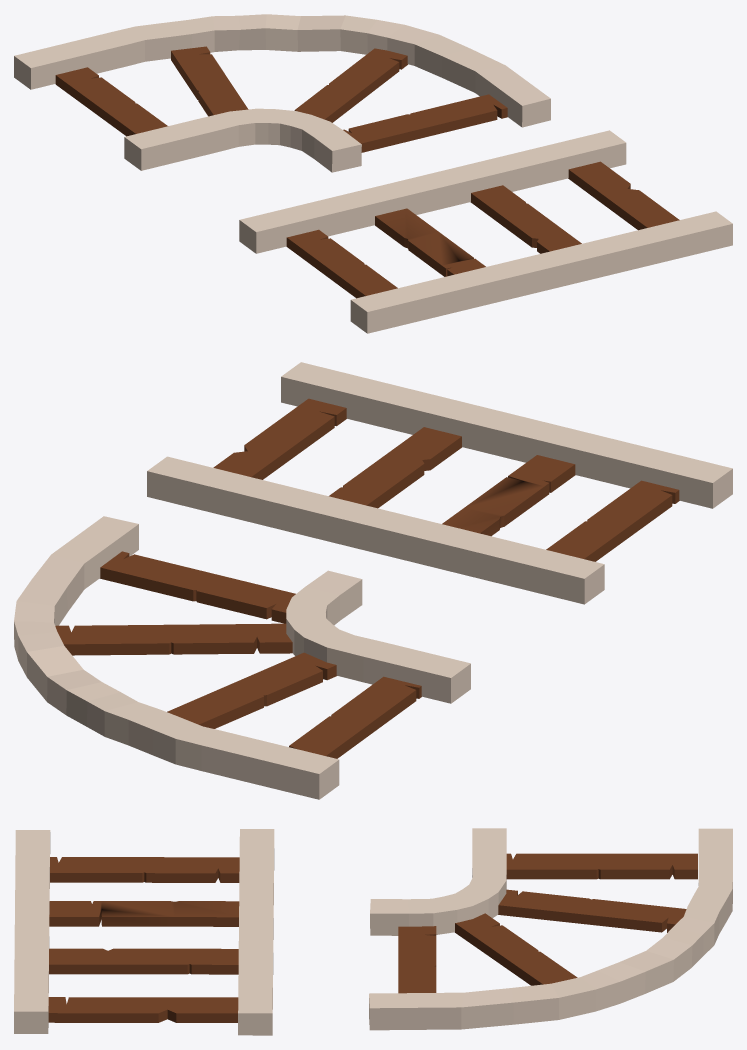
Rendered from minecart-tracks.fbx.
3 renders of one model, top to bottom at view 1: azimuth 30°, elevation 25°; view 2: azimuth 150°, elevation 25°; view 3: azimuth 270°, elevation 25°, orthographic. The views are drawn at different scales.
Parts seen in each view (by area): view 1: Cube.001, Cube.004; view 2: Cube.004, Cube.001; view 3: Cube.001, Cube.004.
Part boxes in pixels (box(x1,y1,x2,y2)): Cube.001: box(14, 14, 550, 172); Cube.004: box(239, 130, 732, 333); Cube.004: box(147, 362, 732, 604); Cube.001: box(14, 516, 470, 799); Cube.001: box(369, 828, 732, 1030); Cube.004: box(14, 829, 274, 1035).
Bounding box in the file's own units: 606 × 39.29 × 996.
